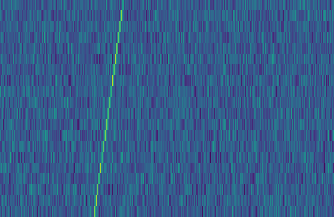signal: (87, 0, 126, 217)
